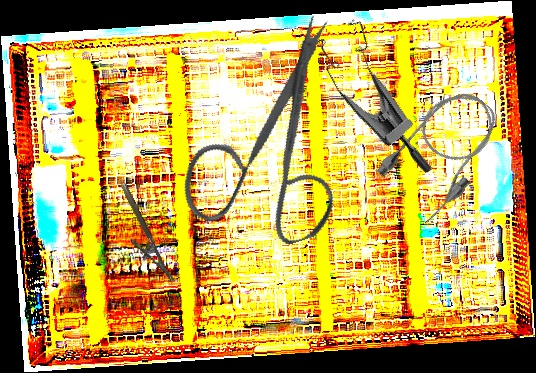Cannula: (369, 76, 517, 230)
Iris Scissors: (141, 10, 396, 273)
Needle Holder: (106, 181, 176, 292)
Speculum: (289, 6, 478, 177)
